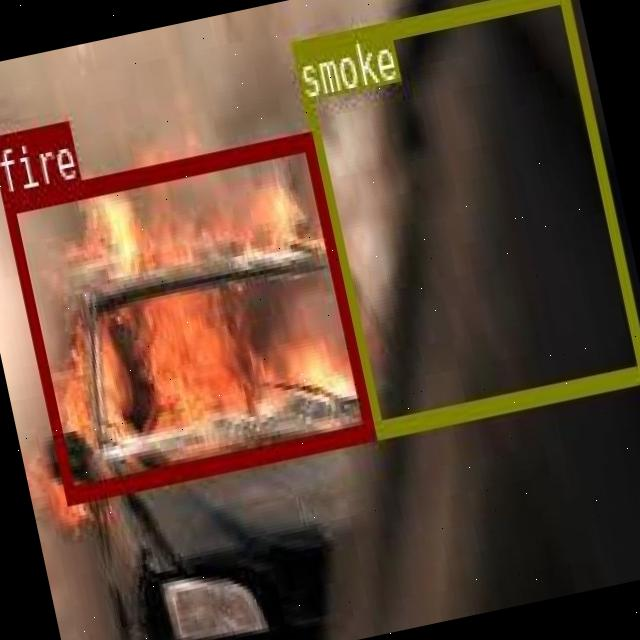fire: (1, 131, 373, 502)
smoke: (289, 0, 640, 437)
